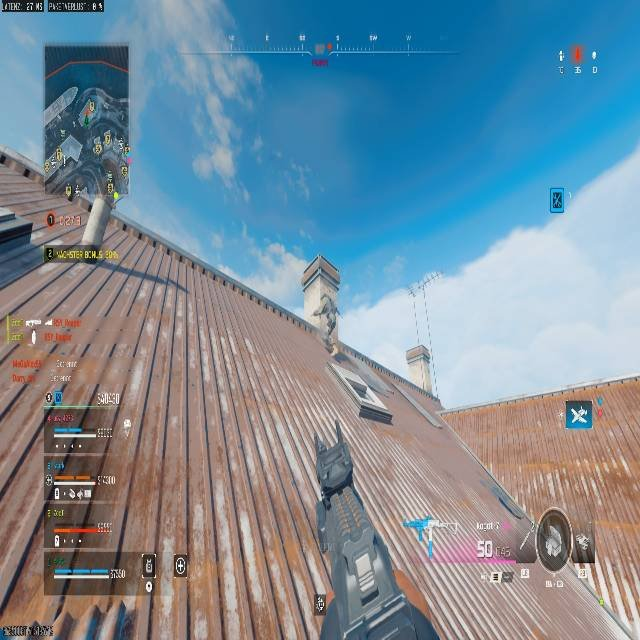player: (299, 257, 341, 352)
